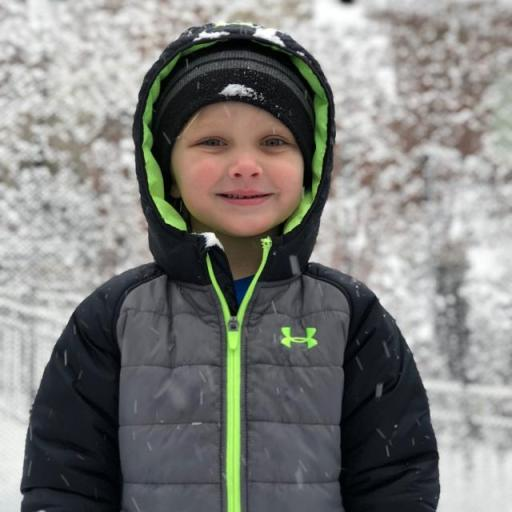Under Armour: (276, 322, 320, 352)
